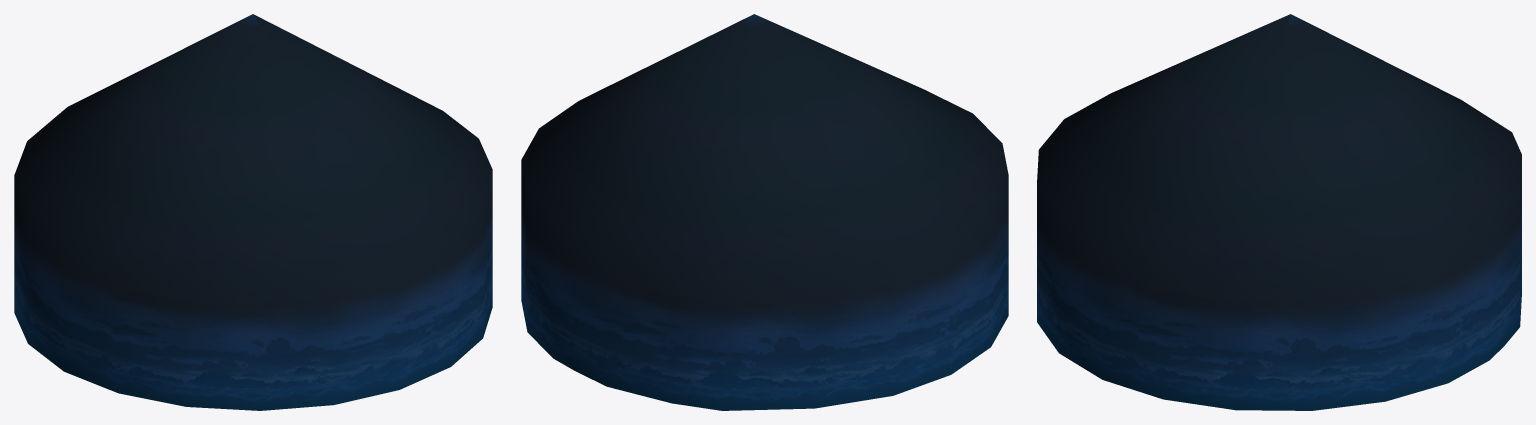
File: waijing.fbx
3 views of the same model, side by side, from view 1: azimuth 30°, elevation 25°; view 2: azimuth 150°, elevation 25°; view 3: azimuth 270°, elevation 25° (orthographic). The views are drawn at different scales.
Visible parts, largest first — view 1: Object021; view 2: Object021; view 3: Object021.
Boxes of the visible parts, <box> form: Object021: <box>14,14,492,410</box>; Object021: <box>521,14,1008,410</box>; Object021: <box>1037,14,1521,410</box>.
Bounding box in the file's own units: 771 × 583 × 771.
2 materials, 2 textured.
